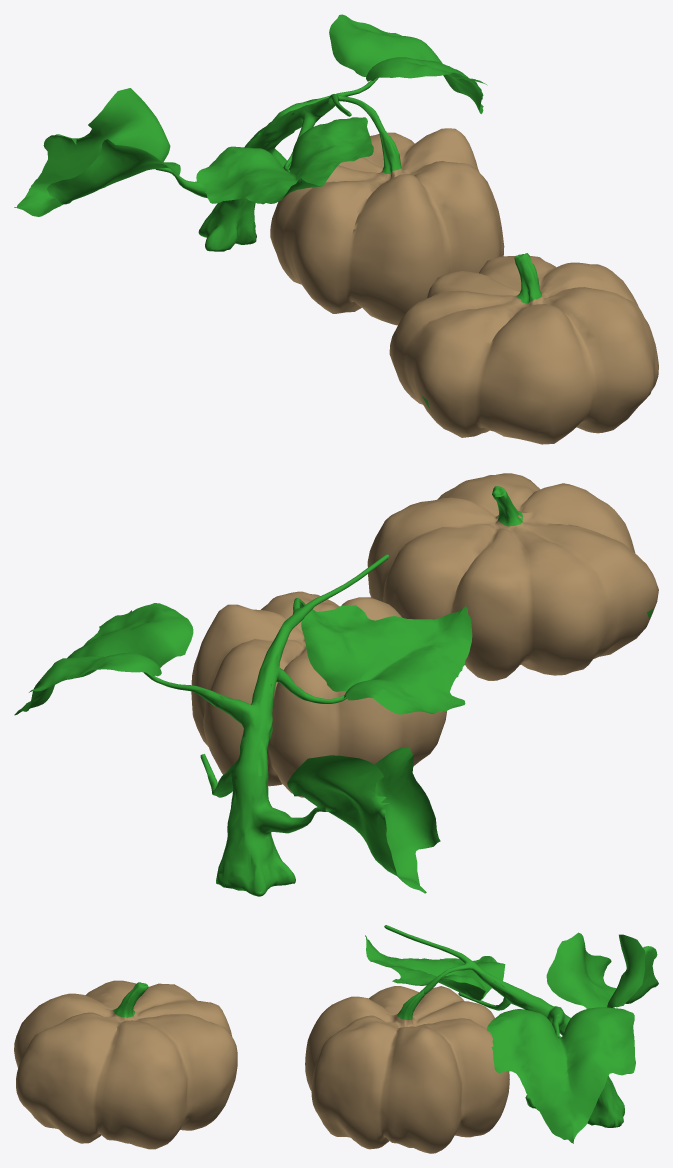
Rendered from pumpkin_model.fbx.
3 renders of one model, top to bottom at view 1: azimuth 30°, elevation 25°; view 2: azimuth 150°, elevation 25°; view 3: azimuth 270°, elevation 25°, orthographic. The views are drawn at different scales.
Visible parts, largest first — view 1: Pumpkin_01 (Leaves), Pumpkin_03; view 2: Pumpkin_01 (Leaves), Pumpkin_03; view 3: Pumpkin_01 (Leaves), Pumpkin_03.
Part boxes in pixels (bbox=[...]): Pumpkin_01 (Leaves): bbox=[14, 14, 504, 325]; Pumpkin_03: bbox=[389, 253, 658, 444]; Pumpkin_01 (Leaves): bbox=[14, 554, 472, 896]; Pumpkin_03: bbox=[367, 473, 658, 680]; Pumpkin_01 (Leaves): bbox=[305, 925, 658, 1153]; Pumpkin_03: bbox=[14, 980, 237, 1149].
Size of the model in its own units: 67.58 by 32.83 by 100.
